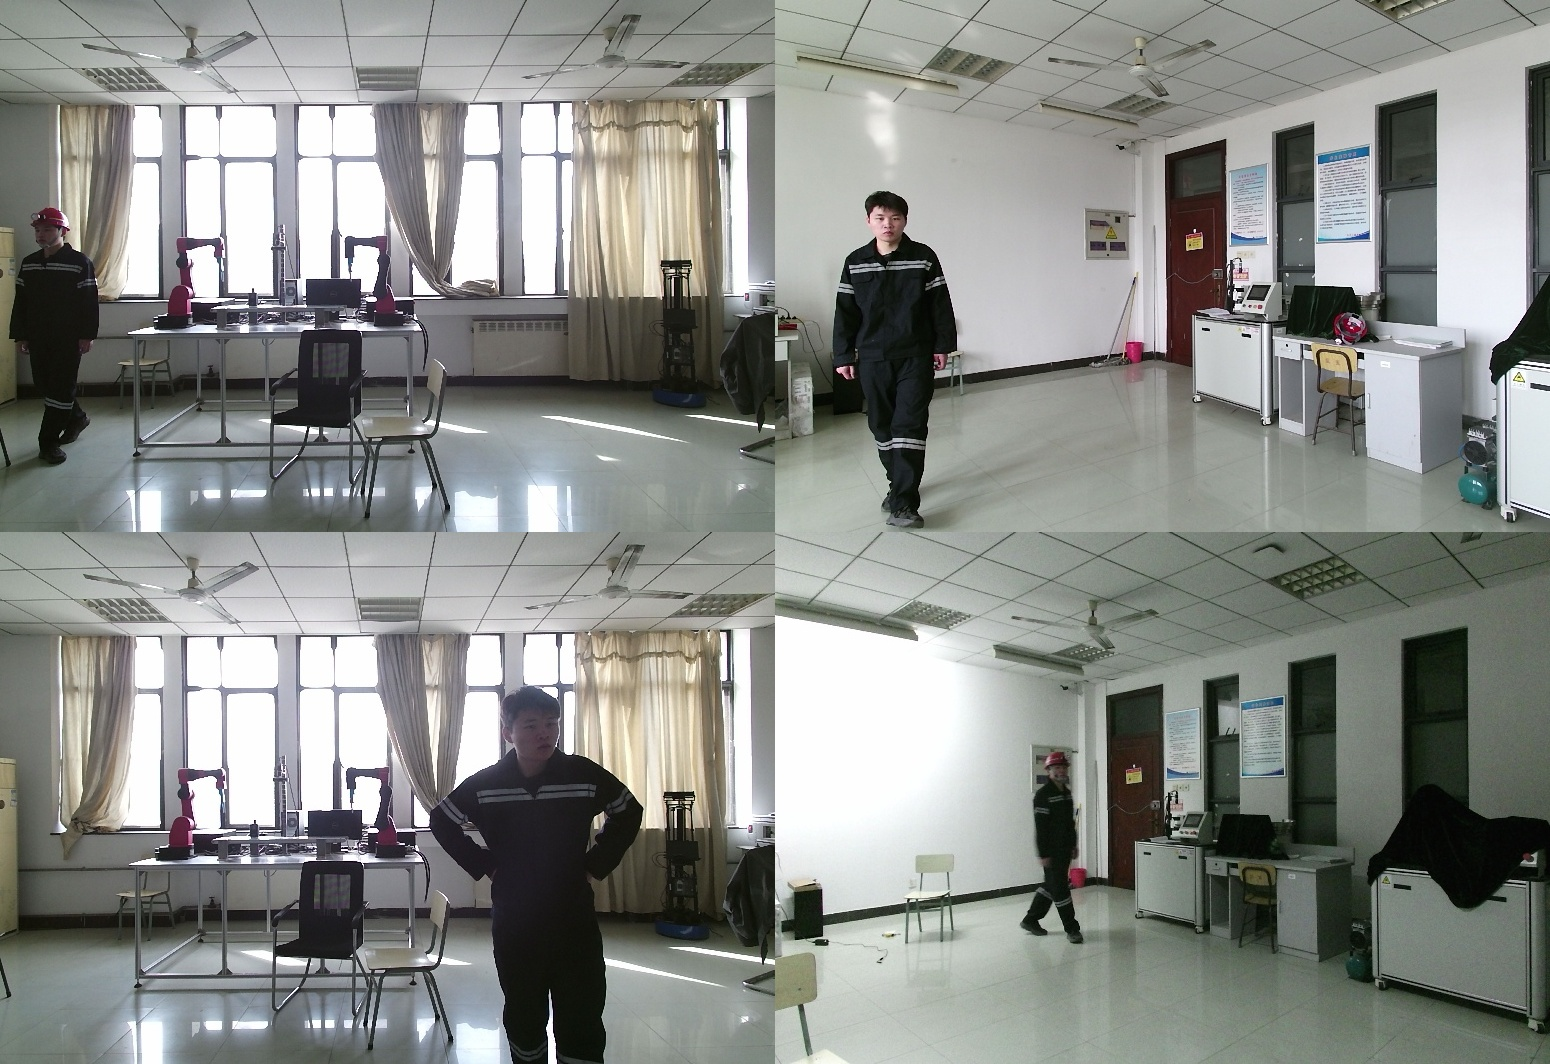person: (437, 684, 674, 1064), (830, 188, 964, 532), (9, 209, 105, 465), (1018, 752, 1082, 954)
